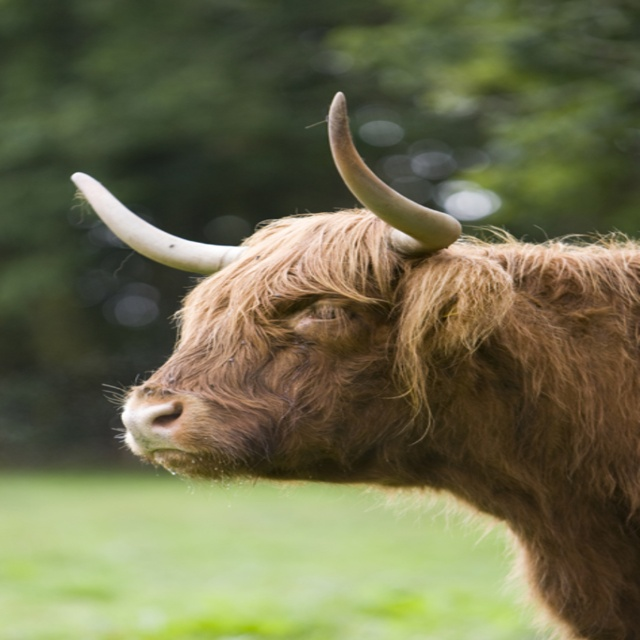Cattle: (70, 91, 636, 637)
